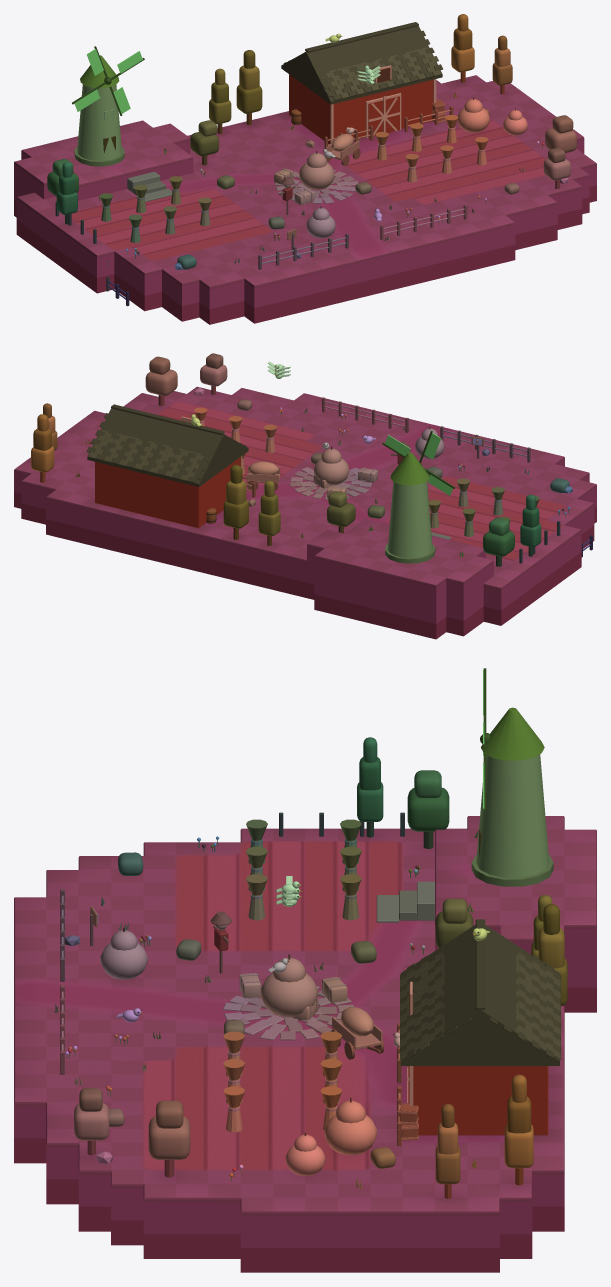
The model's file is grass_2.glb.
3 renders of one model, top to bottom at view 1: azimuth 30°, elevation 25°; view 2: azimuth 150°, elevation 25°; view 3: azimuth 270°, elevation 25°, orthographic. The views are drawn at different scales.
Parts seen in each view (by area): view 1: Terrain.001, Buildings, Props, Trees, Greenery; view 2: Terrain.001, Buildings, Trees, Props, Greenery; view 3: Terrain.001, Buildings, Props, Trees, Greenery.
Part boxes in pixels (bbox=[...]): Terrain.001: bbox=[14, 75, 596, 324]; Buildings: bbox=[72, 22, 442, 166]; Props: bbox=[55, 33, 568, 306]; Trees: bbox=[47, 14, 576, 224]; Greenery: bbox=[98, 92, 543, 269]; Terrain.001: bbox=[14, 386, 596, 639]; Buildings: bbox=[86, 404, 455, 563]; Trees: bbox=[31, 353, 541, 566]; Props: bbox=[191, 361, 592, 563]; Greenery: bbox=[76, 399, 570, 556]; Terrain.001: bbox=[14, 816, 596, 1272]; Buildings: bbox=[400, 668, 560, 1135]; Props: bbox=[60, 812, 489, 1175]; Trees: bbox=[74, 737, 567, 1198]; Greenery: bbox=[54, 830, 478, 1188].
Size of the model in its own units: 28 by 9.53 by 18.
Materials: 42 (1 with a texture image).
